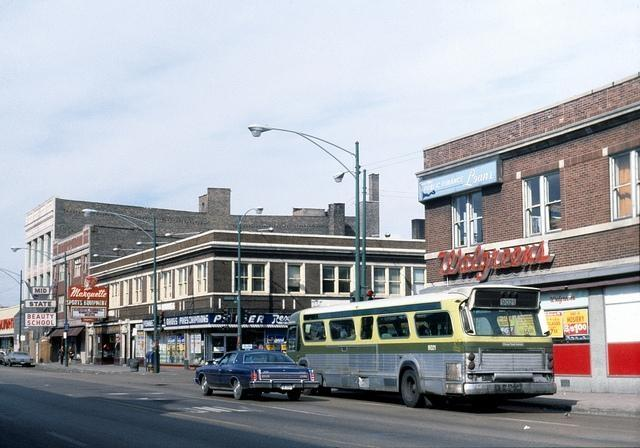bus: (294, 288, 560, 414)
car: (195, 350, 321, 402), (3, 352, 33, 366)
